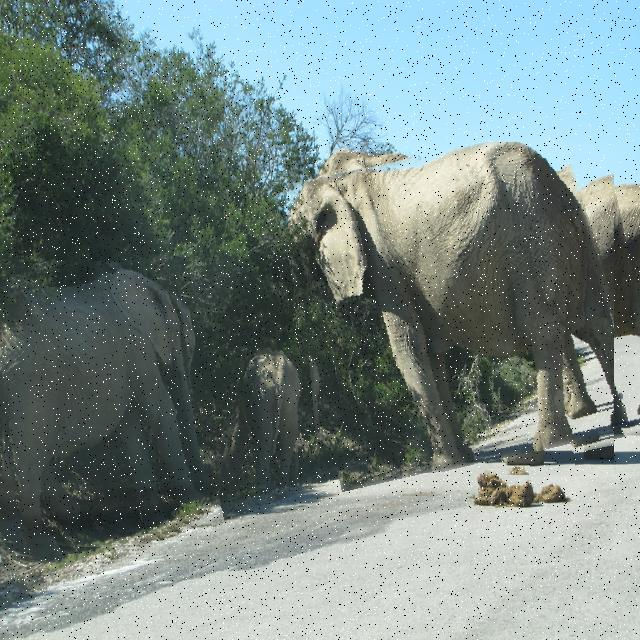elephant: (289, 142, 614, 478), (0, 261, 211, 553), (503, 176, 640, 449), (218, 348, 302, 492)
